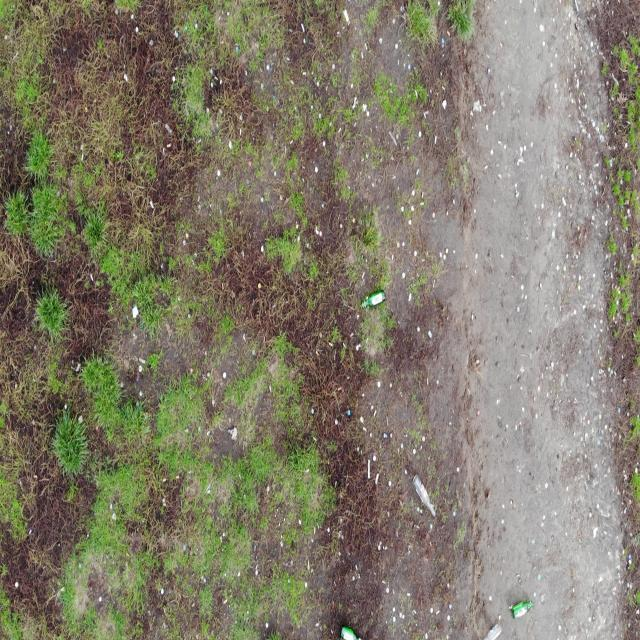rubbish: (412, 472, 437, 517), (508, 600, 533, 618), (361, 290, 385, 308), (483, 622, 502, 640), (342, 626, 360, 638)
